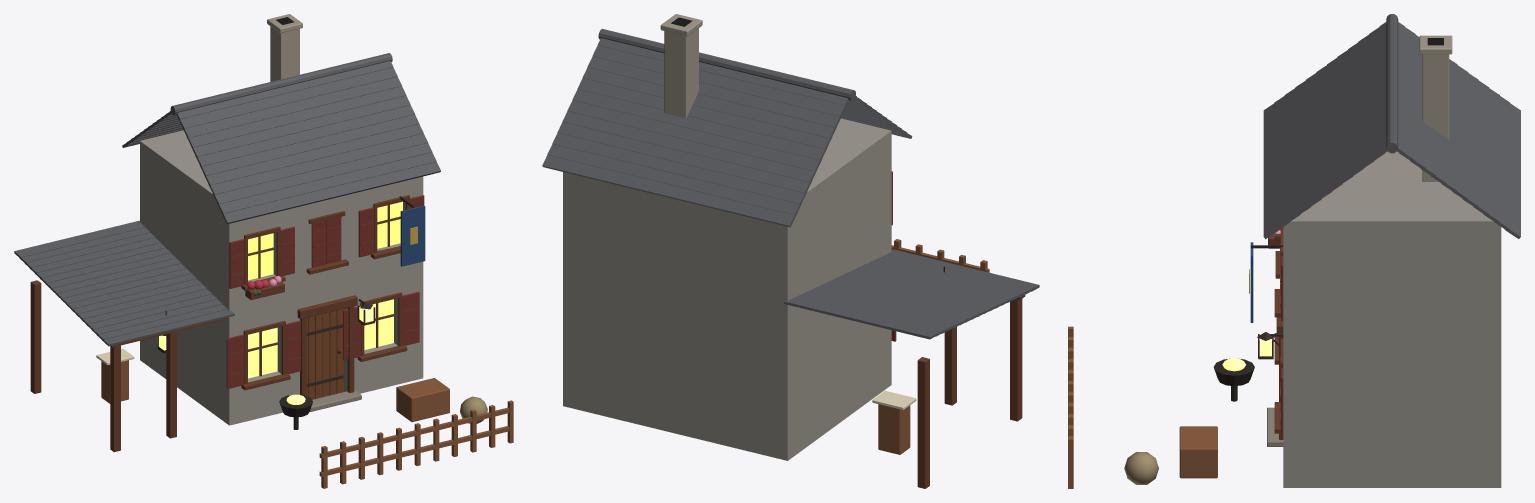
The model's file is guardia.glb.
3 views of the same model, side by side, from view 1: azimuth 30°, elevation 25°; view 2: azimuth 150°, elevation 25°; view 3: azimuth 270°, elevation 25° (orthographic). The views are drawn at different scales.
Parts seen in each view (by area): view 1: guardia_pa_dentro, guardia_pb_dentro, guardia_tejado_s_0, guardia_tejado_s_2, guardia_tejado_s_4, guardia_tejado_s_7, guardia_tejado_s_8, guardia_tejado_s_9, guardia_tejado_s_5, guardia_tejado_s_10, guardia_tejado_s_1, guardia_tejado_s_3 (+63 smaller); view 2: guardia_pb_dentro, guardia_pa_dentro, guardia_tejado_n_0, guardia_tejado_n_2, guardia_tejado_n_5, guardia_tejado_n_1, guardia_tejado_n_3, guardia_tejado_n_4, guardia_tejado_n_6, guardia_tejado_n_7, guardia_tejado_n_8, guardia_tejado_n_9 (+29 smaller); view 3: guardia_pa_dentro, guardia_pb_dentro, guardia_pb.008, guardia_chimenea0, caja_requisada, guardia_tejado_cumbrera, guardia_pa.009, guardia_tejado_s_0, guardia_tejado_s_2, guardia_tejado_s_4, guardia_tejado_n_3, guardia_tejado_n_5 (+22 smaller).
Part boxes in pixels (<box>): guardia_pa_dentro: <box>140,130,223,303</box>; guardia_pb_dentro: <box>140,300,222,420</box>; guardia_tejado_s_0: <box>221,162,440,224</box>; guardia_tejado_s_2: <box>212,143,432,204</box>; guardia_tejado_s_4: <box>204,124,423,185</box>; guardia_tejado_s_7: <box>191,95,410,157</box>; guardia_tejado_s_8: <box>186,86,406,147</box>; guardia_tejado_s_9: <box>182,76,401,138</box>; guardia_tejado_s_5: <box>199,114,419,175</box>; guardia_tejado_s_10: <box>178,67,397,128</box>; guardia_tejado_s_1: <box>217,152,436,213</box>; guardia_tejado_s_3: <box>208,133,427,194</box>; guardia_pb_dentro: <box>563,254,883,460</box>; guardia_pa_dentro: <box>563,124,885,324</box>; guardia_tejado_n_0: <box>542,155,797,227</box>; guardia_tejado_n_2: <box>552,133,807,204</box>; guardia_tejado_n_5: <box>567,100,822,172</box>; guardia_tejado_n_1: <box>547,144,801,215</box>; guardia_tejado_n_3: <box>557,122,812,193</box>; guardia_tejado_n_4: <box>562,111,816,182</box>; guardia_tejado_n_6: <box>572,89,827,160</box>; guardia_tejado_n_7: <box>577,78,832,149</box>; guardia_tejado_n_8: <box>582,67,837,138</box>; guardia_tejado_n_9: <box>587,56,841,128</box>; guardia_pa_dentro: <box>1297,151,1501,344</box>; guardia_pb_dentro: <box>1299,344,1501,487</box>; guardia_pb.008: <box>1283,344,1299,487</box>; guardia_chimenea0: <box>1422,54,1449,181</box>; caja_requisada: <box>1179,426,1217,478</box>; guardia_tejado_cumbrera: <box>1386,14,1398,153</box>; guardia_pa.009: <box>1283,217,1296,344</box>; guardia_tejado_s_0: <box>1263,103,1279,239</box>; guardia_tejado_s_2: <box>1284,88,1300,223</box>; guardia_tejado_s_4: <box>1305,73,1321,207</box>; guardia_tejado_n_3: <box>1473,80,1489,214</box>; guardia_tejado_n_5: <box>1452,65,1468,200</box>.
Size of the model in its own units: 8.5 by 8.15 by 8.31.
